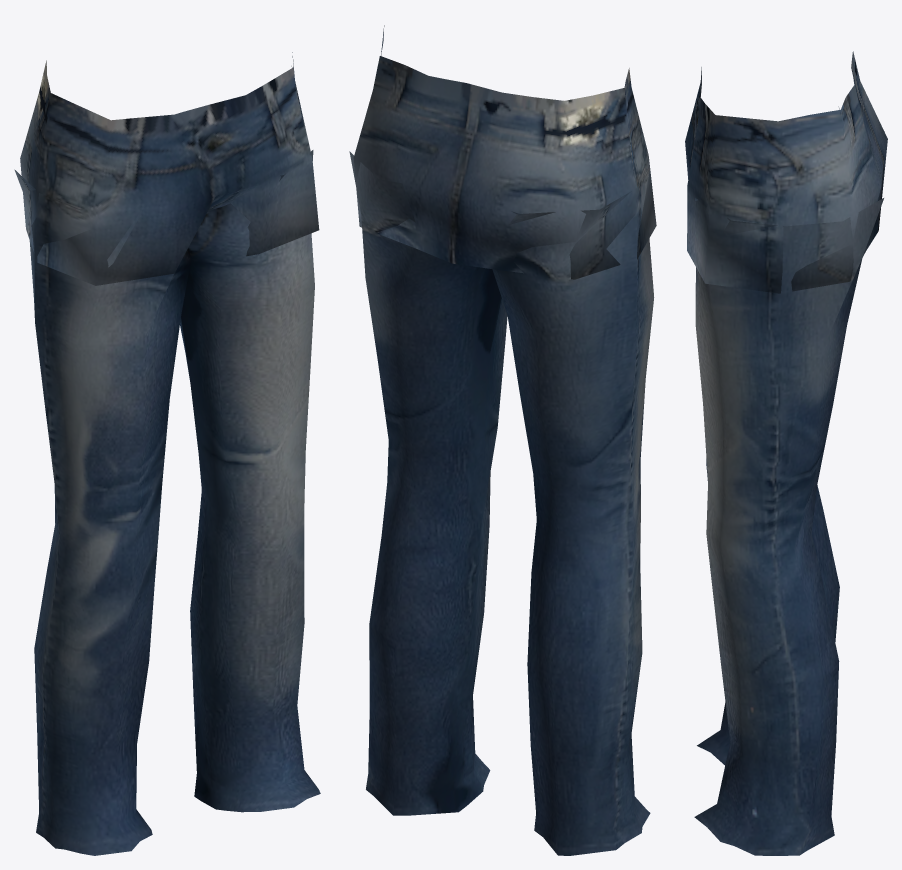
File: 004-shell.glb
3 views of the same model, side by side, from view 1: azimuth 30°, elevation 25°; view 2: azimuth 150°, elevation 25°; view 3: azimuth 270°, elevation 25° (orthographic). The views are drawn at different scales.
Parts seen in each view (by area): view 1: geometry_0; view 2: geometry_0; view 3: geometry_0.
Boxes of the visible parts, left/top/right/bottom form: geometry_0: left=14, top=52, right=320, bottom=855; geometry_0: left=349, top=25, right=656, bottom=855; geometry_0: left=685, top=51, right=887, bottom=855.
Bounding box in the file's own units: 0.3376 × 0.9236 × 0.2312.
Materials: 1 (1 with a texture image).
